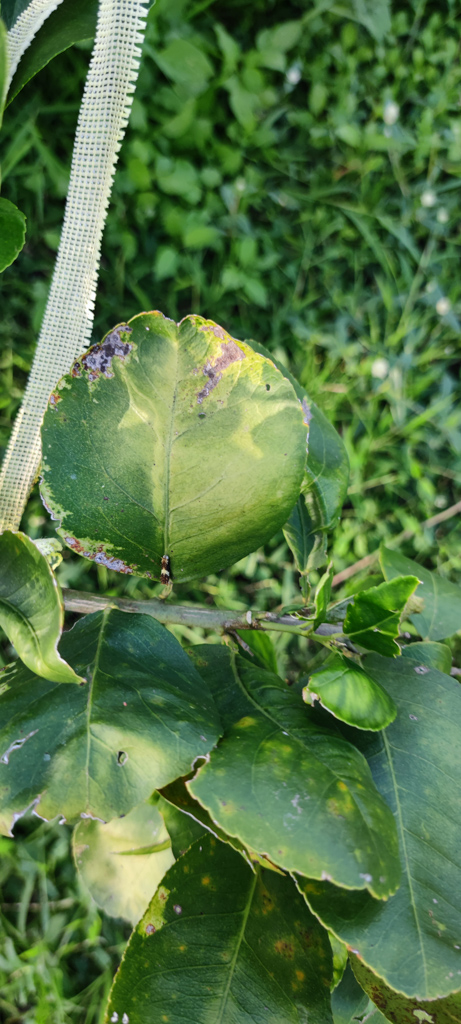Canker: (252, 885, 323, 995), (182, 326, 263, 421), (322, 771, 365, 834), (362, 975, 406, 1021), (140, 901, 186, 942)
Pepper yellow leaf: (159, 296, 312, 476)
